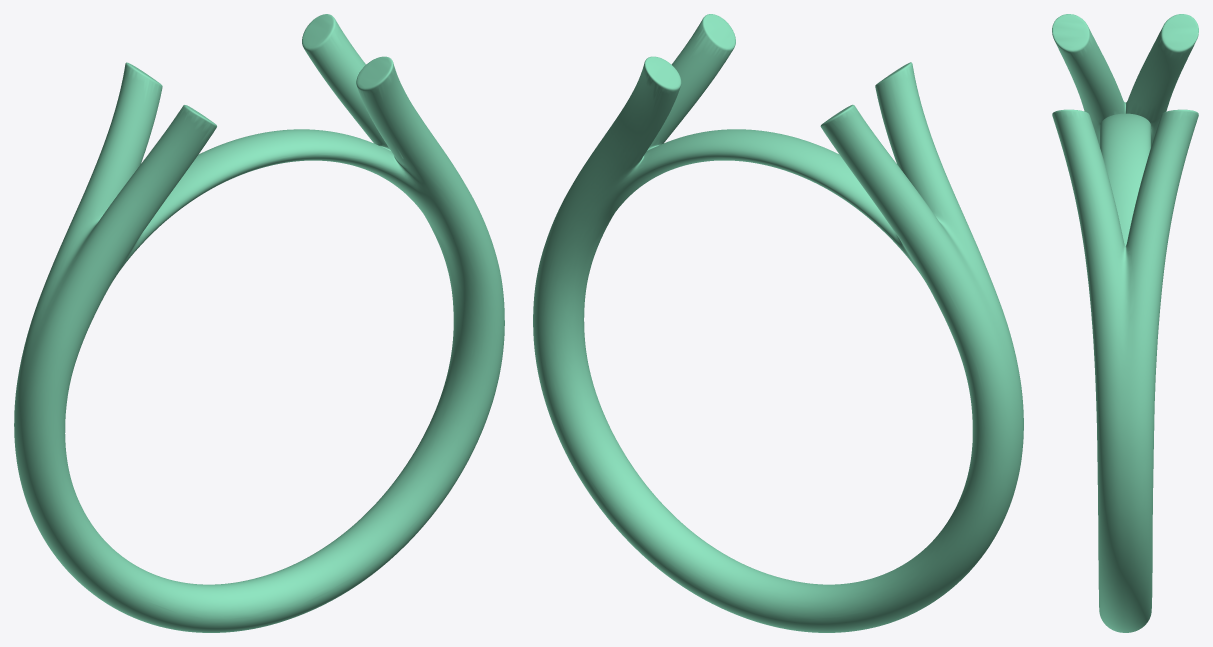
3 views of the same model, side by side, from view 1: azimuth 30°, elevation 25°; view 2: azimuth 150°, elevation 25°; view 3: azimuth 270°, elevation 25° (orthographic). The views are drawn at different scales.
Visible parts, largest first — view 1: Metal02; view 2: Metal02; view 3: Metal02.
Boxes of the visible parts, box(x1,y1,x2,y2) form: Metal02: box(14, 14, 504, 632); Metal02: box(533, 14, 1023, 632); Metal02: box(1052, 14, 1198, 632).
Bounding box in the file's own units: 20.84 × 23.3 × 5.68.
